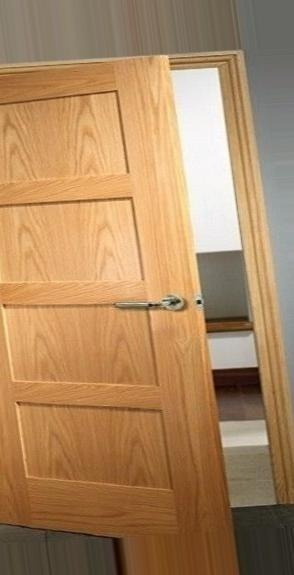door: (0, 61, 265, 575)
